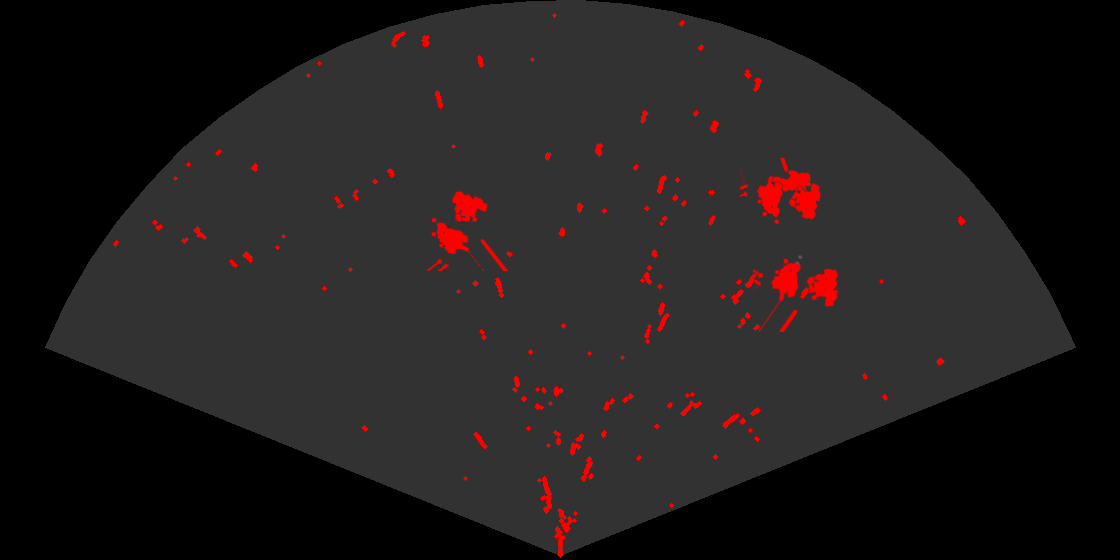AUV: (768, 169, 813, 196)
cage: (425, 190, 509, 271), (753, 254, 840, 332), (740, 158, 823, 226)
